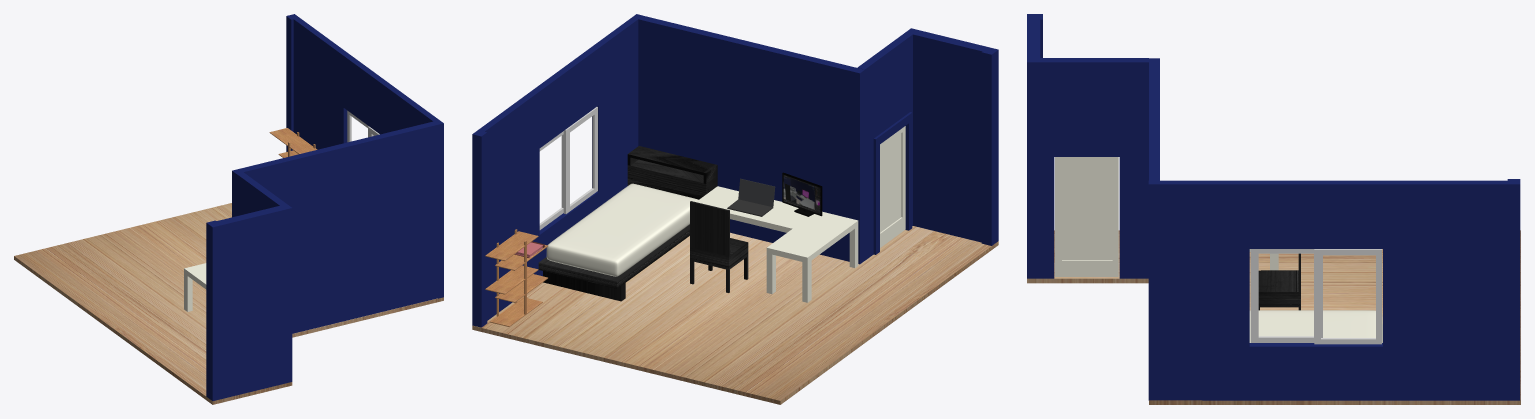
File: kamar.glb
3 renders of one model, left to right at view 1: azimuth 30°, elevation 25°; view 2: azimuth 150°, elevation 25°; view 3: azimuth 270°, elevation 25°, orthographic. The views are drawn at different scales.
Visible parts, largest first — view 1: Tembok 2, Lantai, Tembok 3, Tembok 1, lemari kecil.002, Meja; view 2: Lantai, Tembok 2, Tembok 3, Tembok 1, Busa Kasur, Kasur, Meja, lemari kecil.002, kursi.002, Pintu, Jendela 2, layar sec (+2 smaller); view 3: Tembok 1, Tembok 3, Pintu, Lantai, Busa Kasur, Jendela 1, Jendela 2, kursi.002, Tembok 2.
Part boxes in pixels (x1,y1,x2,y2): Tembok 2: (232, 121, 437, 333); Lantai: (14, 203, 443, 404); Tembok 3: (206, 172, 292, 400); Tembok 1: (286, 14, 443, 298); lemari kecil.002: (269, 128, 317, 157); Meja: (184, 263, 206, 311); Lantai: (472, 226, 998, 404); Tembok 2: (638, 15, 864, 264); Tembok 3: (857, 28, 998, 260); Tembok 1: (472, 14, 642, 327); Busa Kasur: (546, 183, 698, 276); Kasur: (538, 146, 717, 301); Meja: (696, 186, 858, 302); lemari kecil.002: (485, 229, 547, 326); kursi.002: (690, 201, 748, 292); Pintu: (880, 126, 905, 247); Jendela 2: (563, 107, 597, 213); layar sec: (782, 172, 822, 216); Tembok 1: (1148, 179, 1520, 400); Tembok 3: (1027, 14, 1148, 278); Pintu: (1055, 157, 1118, 276); Lantai: (1027, 230, 1520, 404); Busa Kasur: (1249, 310, 1382, 342); Jendela 1: (1314, 249, 1381, 344); Jendela 2: (1250, 249, 1322, 342); kursi.002: (1258, 253, 1300, 310); Tembok 2: (1149, 58, 1159, 180).
Bounding box in the file's own units: 38.94 × 23.57 × 47.76.
15 materials, 4 textured.
